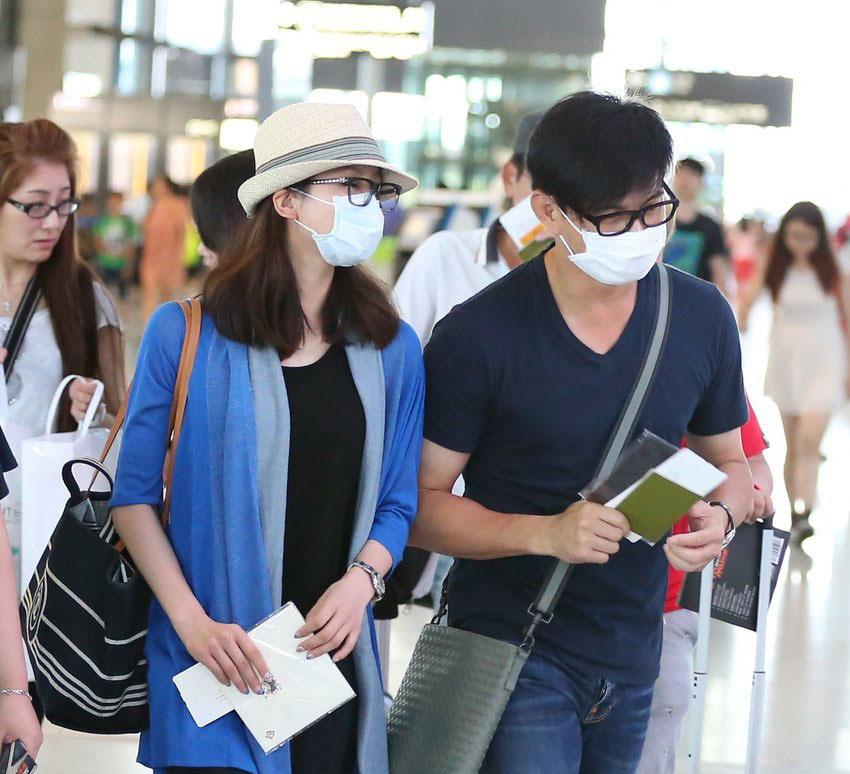NONE: (1, 178, 80, 261)
OK: (565, 183, 669, 284), (293, 166, 394, 267)
